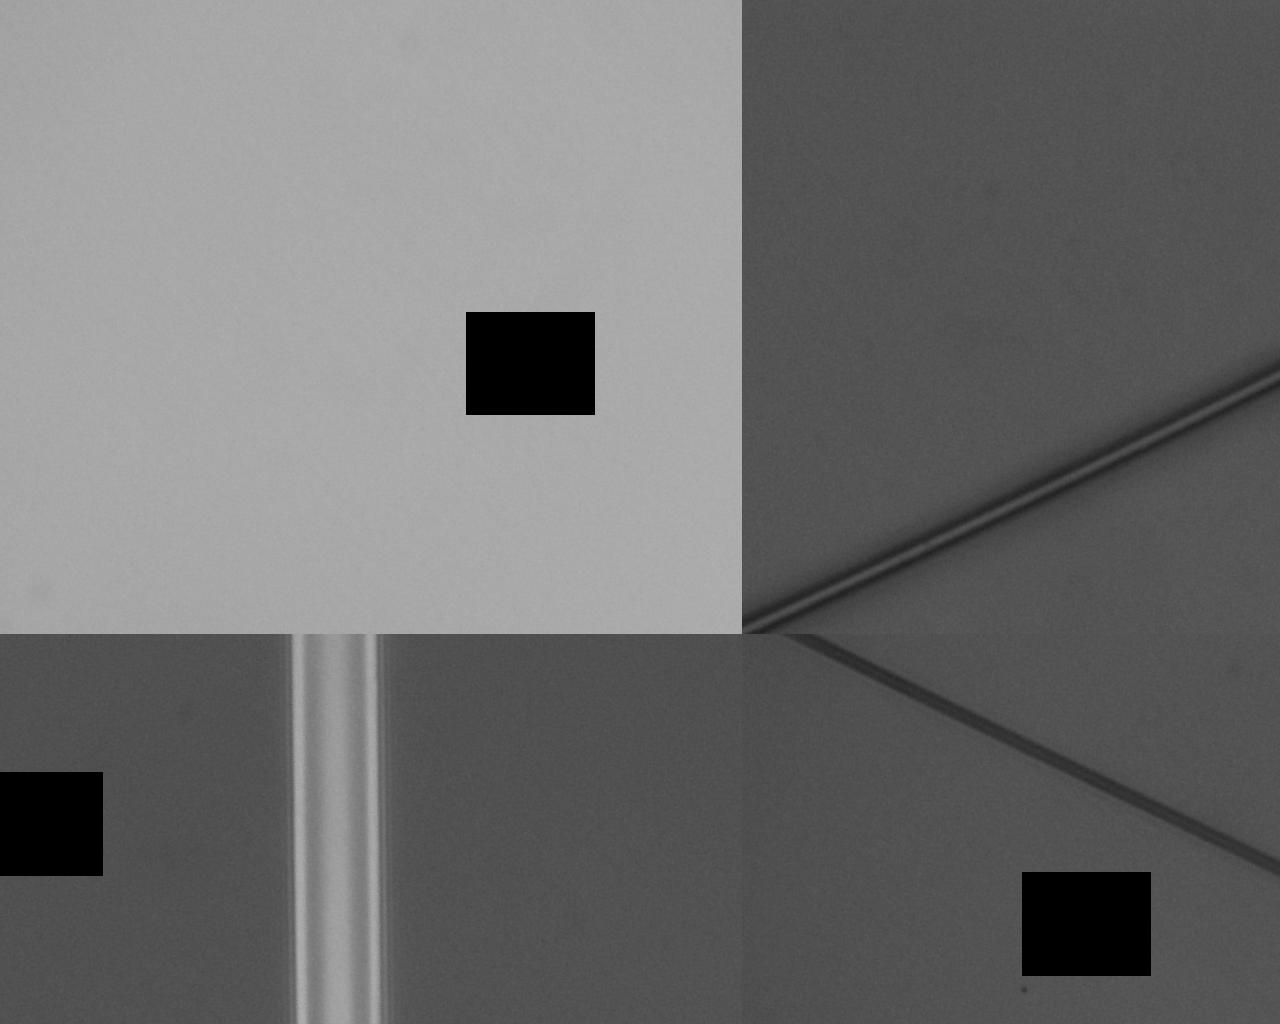fiber: (678, 0, 1280, 350), (678, 614, 867, 1024), (422, 614, 565, 1024), (98, 0, 150, 614)
